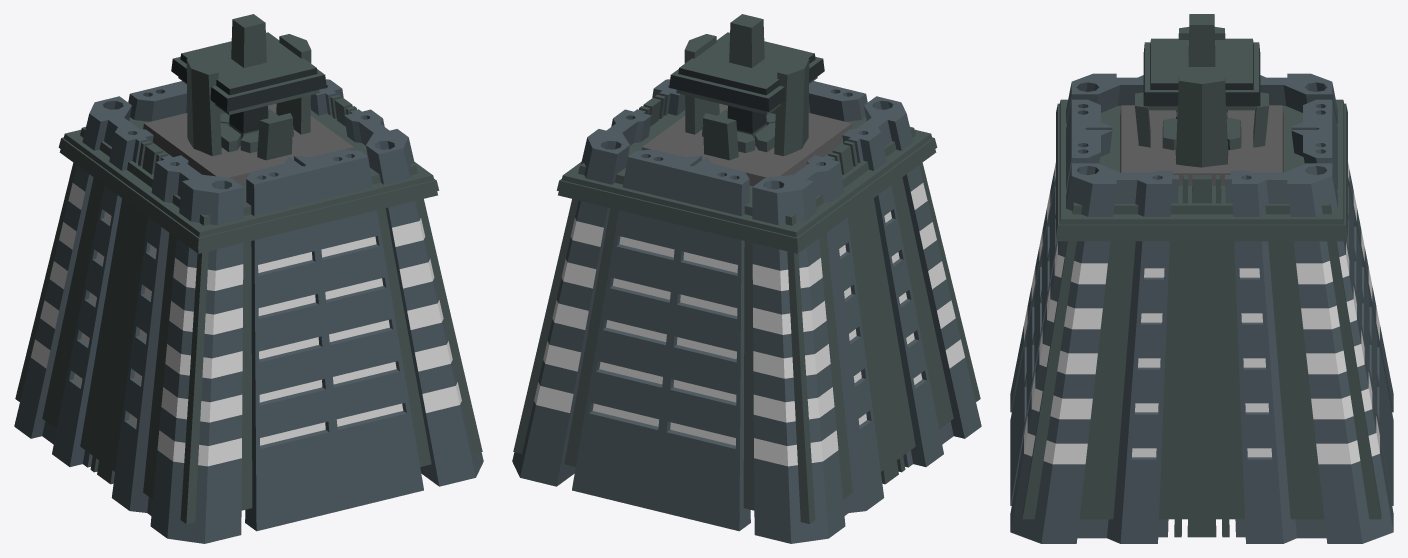
File: building_56.fbx
3 views of the same model, side by side, from view 1: azimuth 30°, elevation 25°; view 2: azimuth 150°, elevation 25°; view 3: azimuth 270°, elevation 25° (orthographic). The views are drawn at different scales.
Parts seen in each view (by area): view 1: building_56; view 2: building_56; view 3: building_56.
Part boxes in pixels (x1,y1,x2,y2): building_56: (14,14,483,543); building_56: (512,14,981,543); building_56: (1010,14,1393,543).
Size of the model in its own units: 951 by 1214 by 951.
